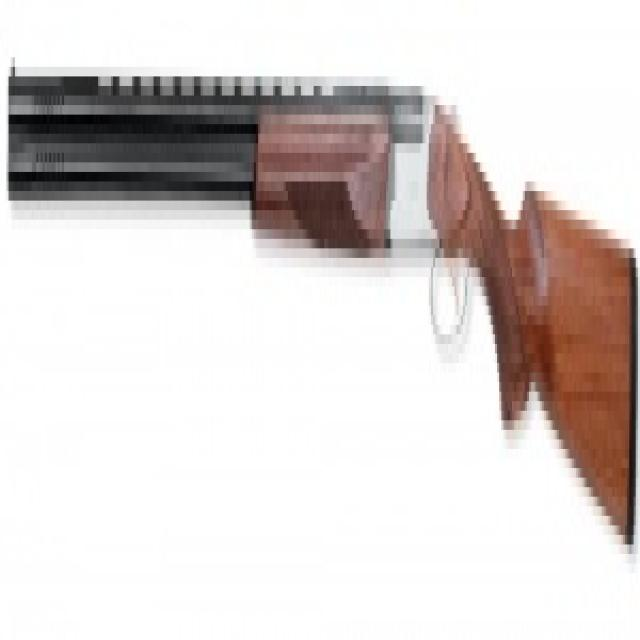rifle: (4, 32, 640, 592)
